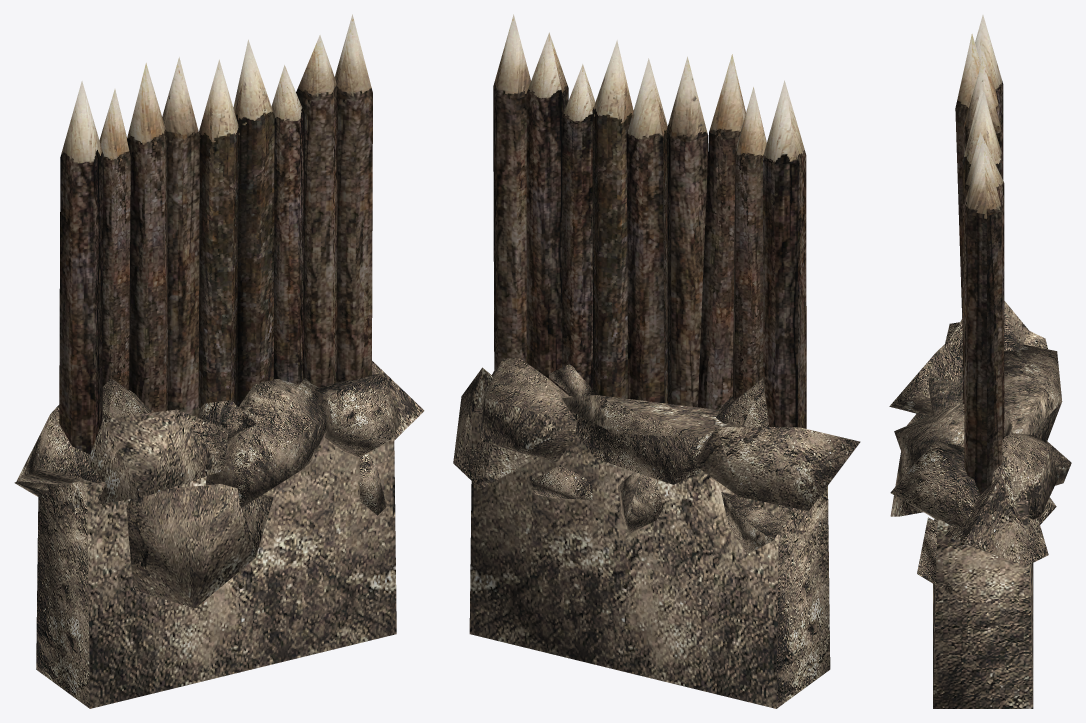
The model's file is palisade_short.glb.
3 views of the same model, side by side, from view 1: azimuth 30°, elevation 25°; view 2: azimuth 150°, elevation 25°; view 3: azimuth 270°, elevation 25° (orthographic). The views are drawn at different scales.
Bounding box in the file's own units: 6.22 × 9.3 × 2.69.
1 material, 1 textured.
